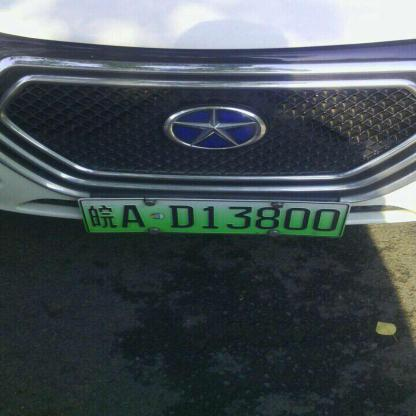lp: (76, 198, 349, 238)
